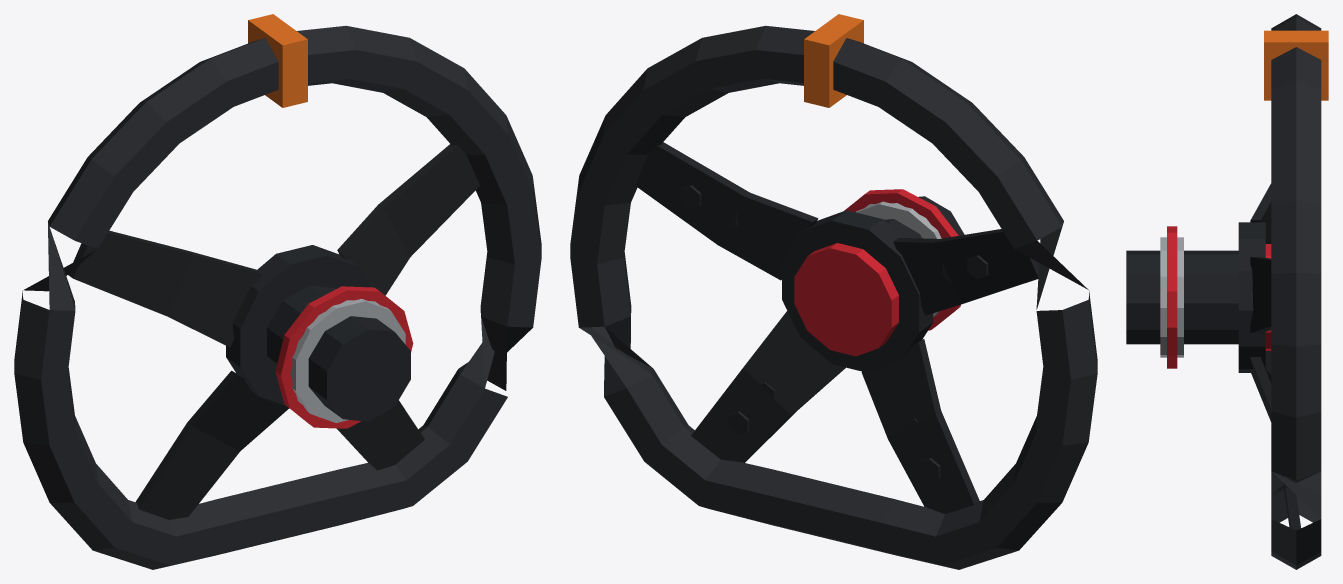
Rendered from hana_roadster.glb.
3 renders of one model, left to right at view 1: azimuth 30°, elevation 25°; view 2: azimuth 150°, elevation 25°; view 3: azimuth 270°, elevation 25°, orthographic. The views are drawn at different scales.
Parts seen in each view (by area): view 1: model; view 2: model; view 3: model.
Boxes of the visible parts, x1,y1,x2,y2 form: model: (14,14,541,569); model: (570,14,1097,569); model: (1126,14,1328,569).
Size of the model in its own units: 0.3348 by 0.3097 by 0.119.
Materials: 4 (1 with a texture image).
